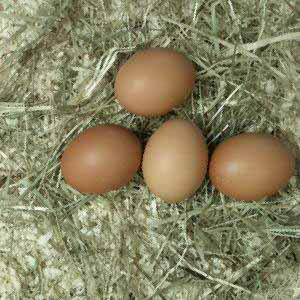egg: (114, 48, 197, 118), (209, 133, 293, 200), (61, 123, 141, 193), (143, 119, 209, 202)
